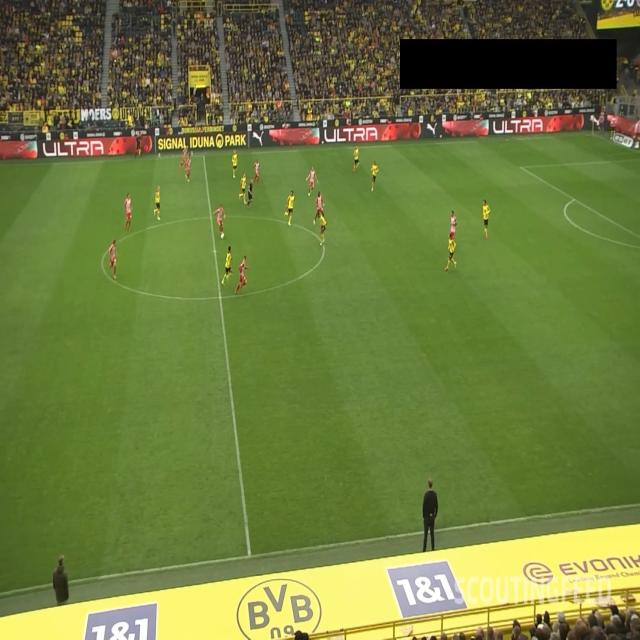ball: (220, 232, 225, 240)
